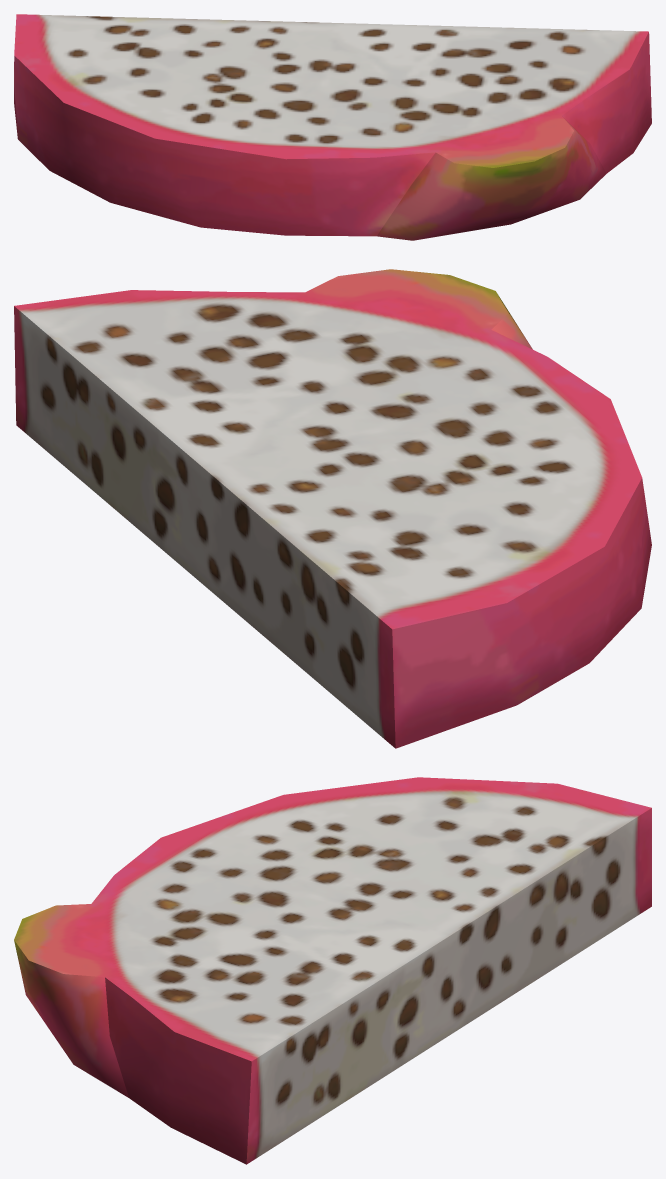
The model's file is SM_PitayaSliceA.fbx.
The picture shows the model from 3 angles, top to bottom: view 1: azimuth 30°, elevation 25°; view 2: azimuth 150°, elevation 25°; view 3: azimuth 270°, elevation 25°; orthographic projection. The views are drawn at different scales.
Parts seen in each view (by area): view 1: SM_PitayaSliceA; view 2: SM_PitayaSliceA; view 3: SM_PitayaSliceA.
Part boxes in pixels (left/top/right/bottom): SM_PitayaSliceA: left=14, top=14, right=651, bottom=240; SM_PitayaSliceA: left=14, top=269, right=651, bottom=748; SM_PitayaSliceA: left=14, top=777, right=651, bottom=1164.
Size of the model in its own units: 11.72 by 1.97 by 11.07.
